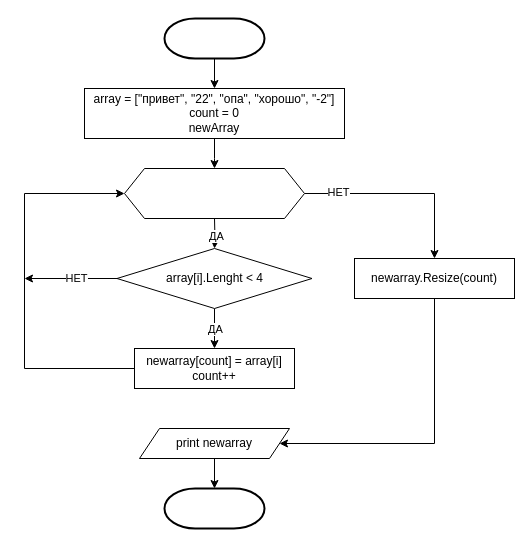
Image size: 532x546. Some labels were removed from this diagram. Here are the shapes that lost their labels. From the top down, the box of each, then its label:
(163, 17, 265, 59): Начало
(124, 168, 304, 218): i = 0; i < array.Lenght; i++
(163, 487, 265, 529): Конец
